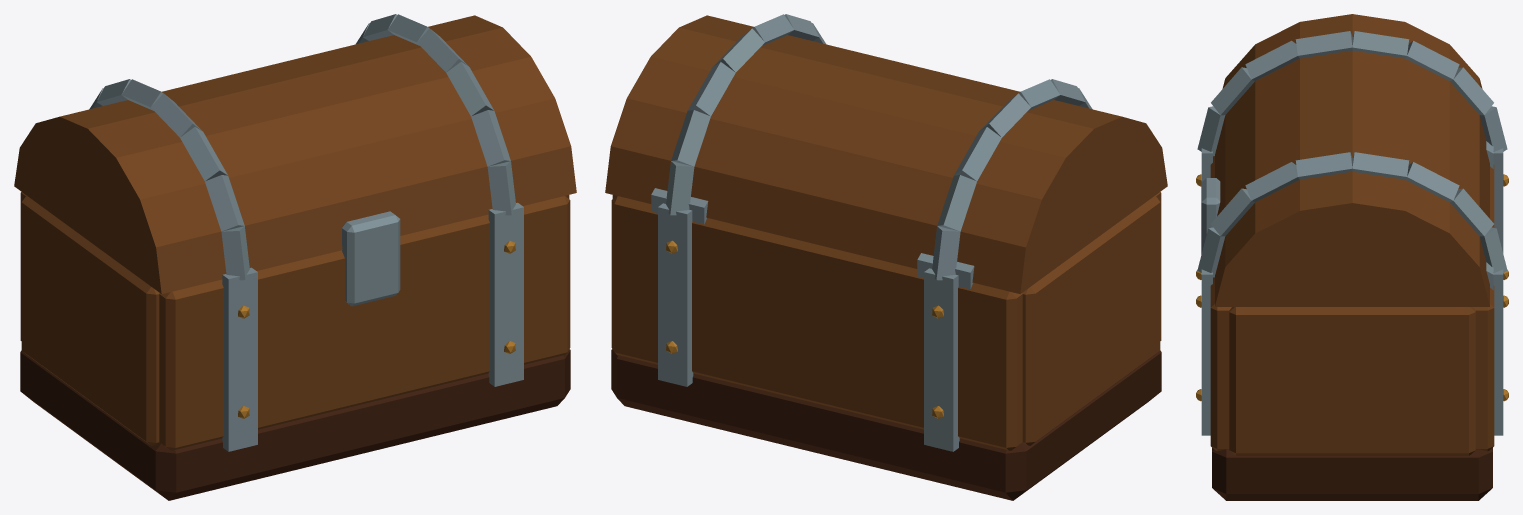
Rendered from Chest0.fbx.
3 renders of one model, left to right at view 1: azimuth 30°, elevation 25°; view 2: azimuth 150°, elevation 25°; view 3: azimuth 270°, elevation 25°, orthographic. The views are drawn at different scales.
Parts seen in each view (by area): view 1: Chest0_Mesh, Lid_Mesh; view 2: Chest0_Mesh, Lid_Mesh; view 3: Lid_Mesh, Chest0_Mesh.
Boxes of the visible parts, bbox=[...] form: Chest0_Mesh: bbox=[20, 192, 570, 500]; Lid_Mesh: bbox=[14, 14, 576, 306]; Chest0_Mesh: bbox=[611, 192, 1161, 500]; Lid_Mesh: bbox=[605, 14, 1167, 293]; Lid_Mesh: bbox=[1197, 14, 1507, 306]; Chest0_Mesh: bbox=[1196, 148, 1508, 500].
Size of the model in its own units: 0.795 by 0.6177 by 0.5458.
